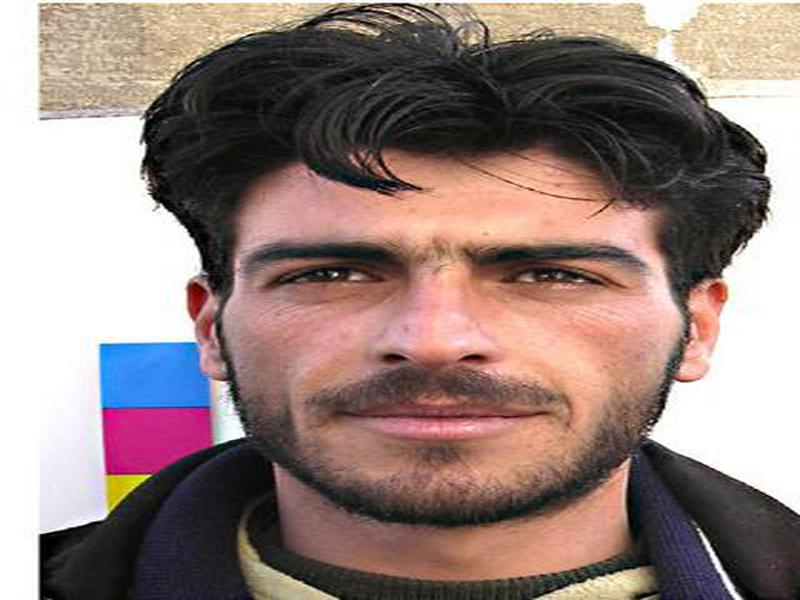without_mask: (225, 185, 678, 523)
